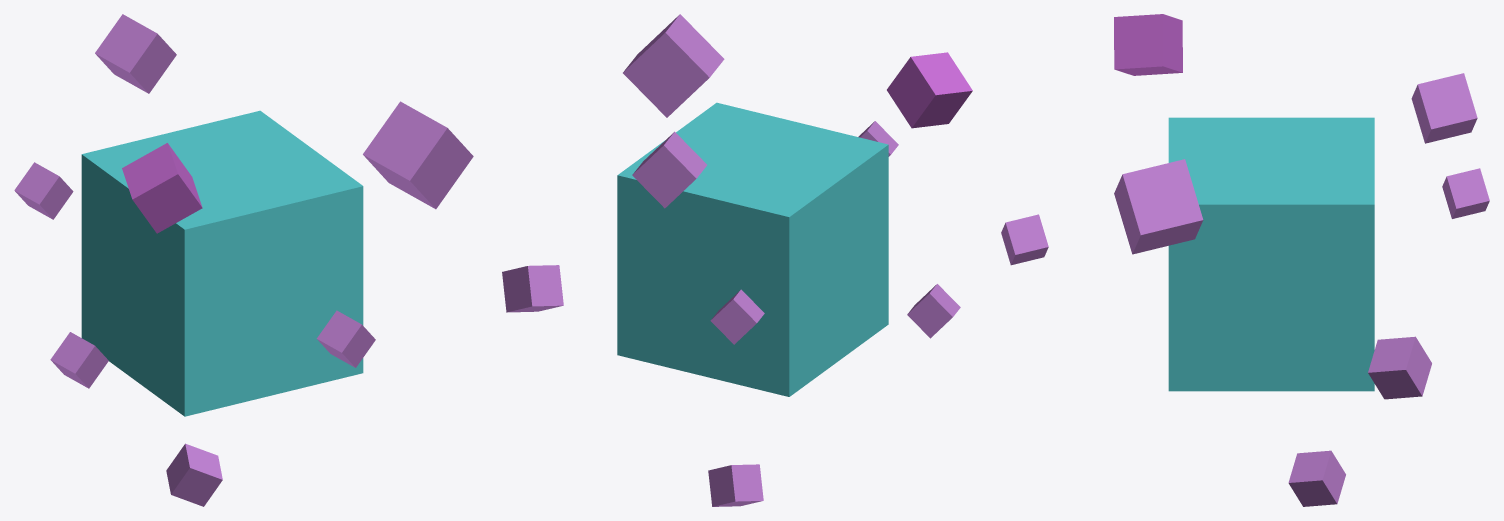
The model's file is standardwrldfbx.fbx.
The picture shows the model from 3 angles, left to right: view 1: azimuth 30°, elevation 25°; view 2: azimuth 150°, elevation 25°; view 3: azimuth 270°, elevation 25°; orthographic projection. The views are drawn at different scales.
Parts seen in each view (by area): view 1: Cube.006; view 2: Cube.006; view 3: Cube.006.
Boxes of the visible parts, <box> form: Cube.006: <box>14,14,473,506</box>; Cube.006: <box>502,14,972,506</box>; Cube.006: <box>1001,14,1489,506</box>.
Size of the model in its own units: 287 by 316 by 317.
